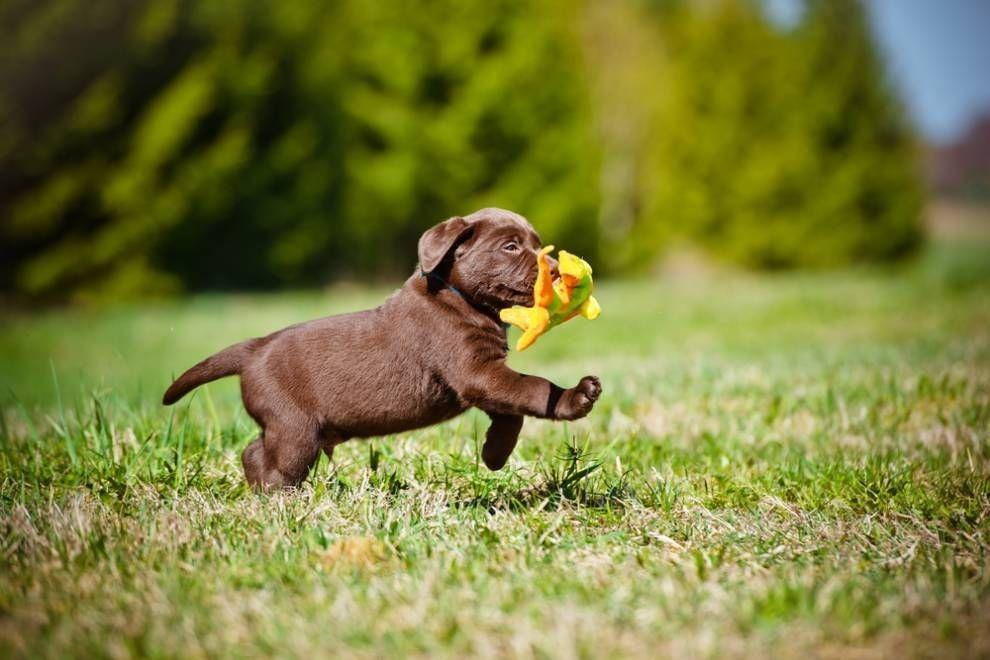puppy-dog: (153, 202, 604, 496)
